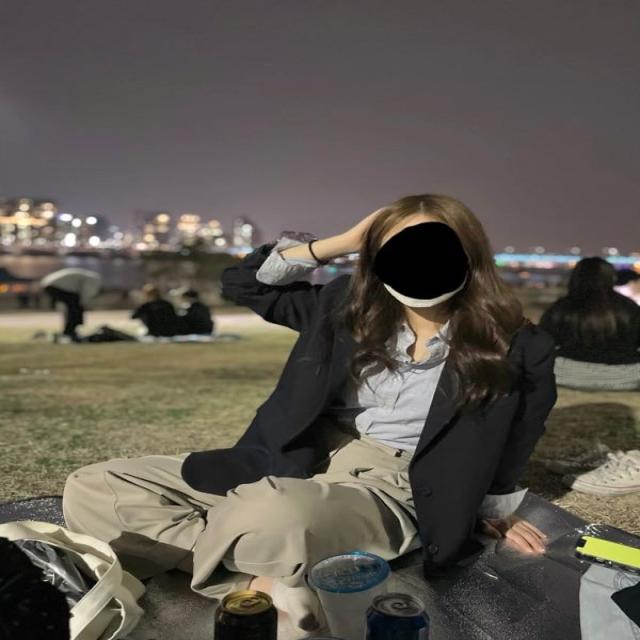blazer: (180, 235, 556, 585)
shirt: (256, 240, 455, 449)
slacks: (59, 423, 435, 587)
